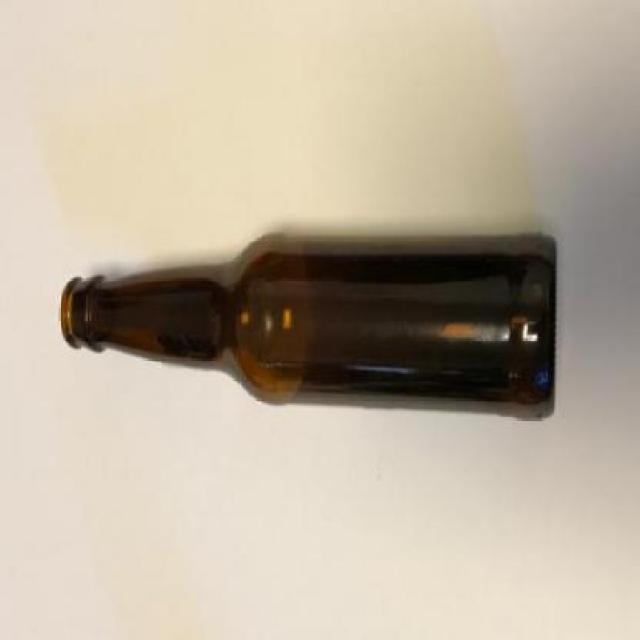kaca: (57, 229, 555, 420)
